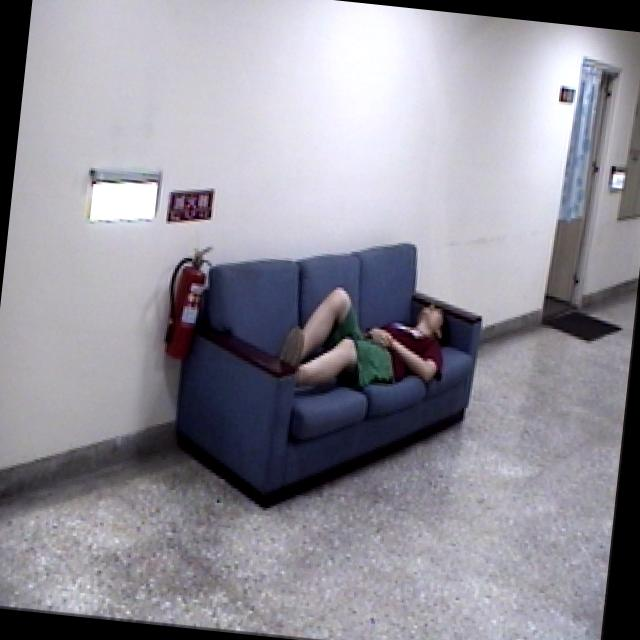lie: (272, 261, 458, 407)
